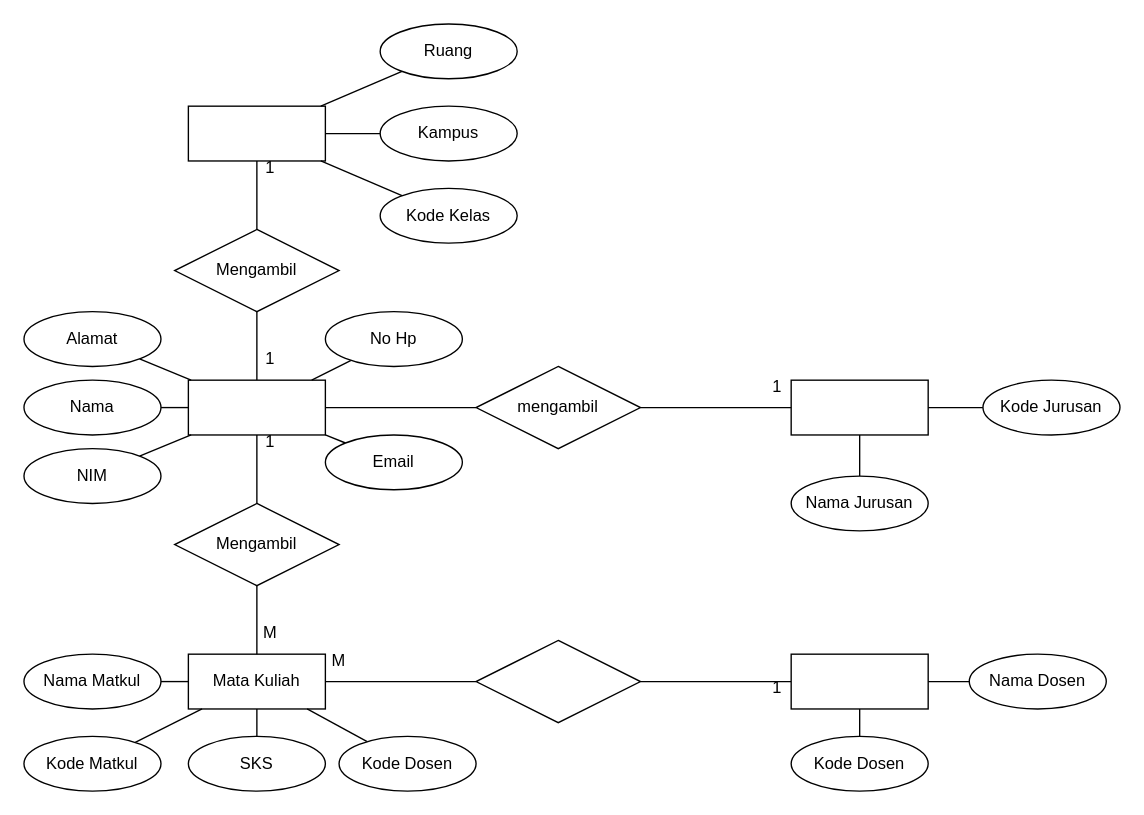
This 1144x815 diagram has some shape labels left out. Each missing label, with the centre of its shape:
"Dosen" belongs at point (859, 681).
"Jurusan" belongs at point (859, 407).
"Kelas" belongs at point (256, 133).
"Mahasiswa" belongs at point (256, 407).
"Mengajar" belongs at point (557, 681).
